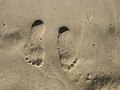human_foot_print: (24, 20, 44, 66), (57, 26, 77, 70)
